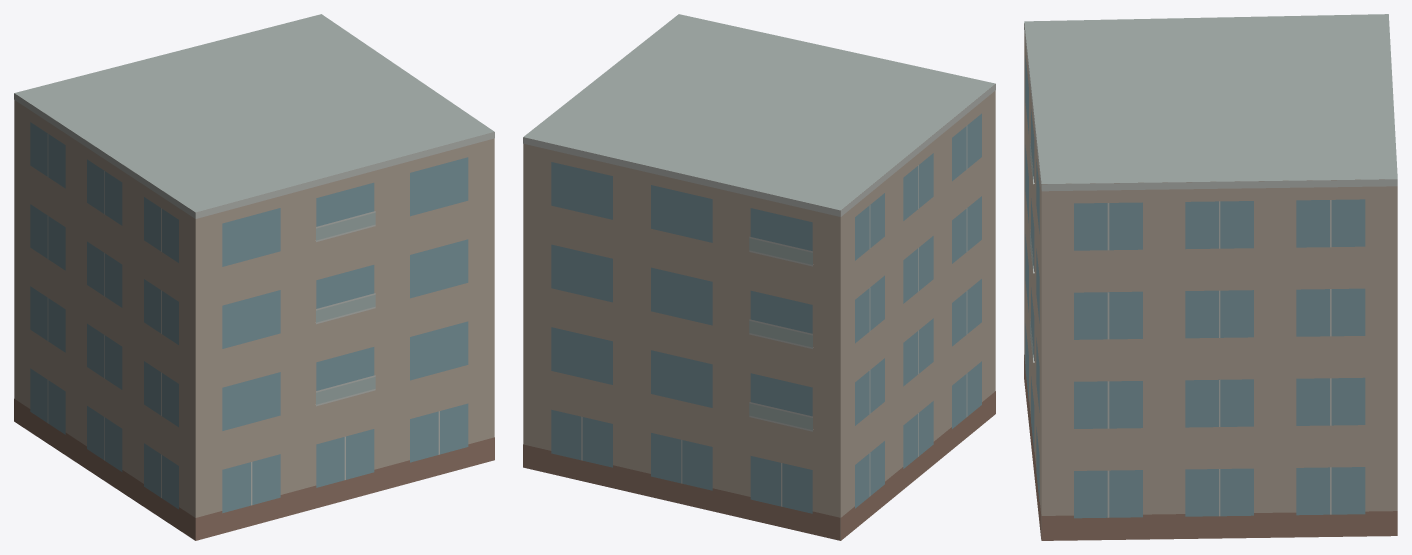
The model's file is survey-upis-32905020.glb.
The picture shows the model from 3 angles, left to right: view 1: azimuth 30°, elevation 25°; view 2: azimuth 150°, elevation 25°; view 3: azimuth 270°, elevation 25°; orthographic projection. The views are drawn at different scales.
Visible parts, largest first — view 1: survey-upis-32905020.tmp; view 2: survey-upis-32905020.tmp; view 3: survey-upis-32905020.tmp.
Boxes of the visible parts, left/top/right/bottom form: survey-upis-32905020.tmp: left=14, top=14, right=494, bottom=540; survey-upis-32905020.tmp: left=523, top=14, right=995, bottom=540; survey-upis-32905020.tmp: left=1024, top=14, right=1397, bottom=540.
Size of the model in its own units: 12.49 by 12.2 by 11.59.
